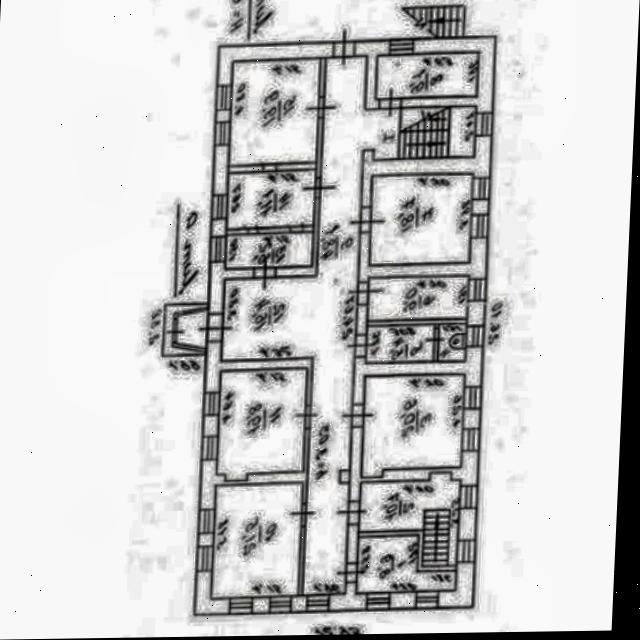room: (145, 37, 491, 606), (211, 481, 302, 601), (215, 365, 307, 483), (360, 375, 464, 477), (229, 57, 320, 168), (358, 471, 459, 568), (366, 176, 475, 265), (354, 535, 455, 593), (225, 173, 315, 227), (375, 55, 477, 98), (366, 279, 468, 320), (224, 235, 311, 268), (365, 326, 434, 362), (174, 310, 207, 348), (438, 324, 464, 361)
